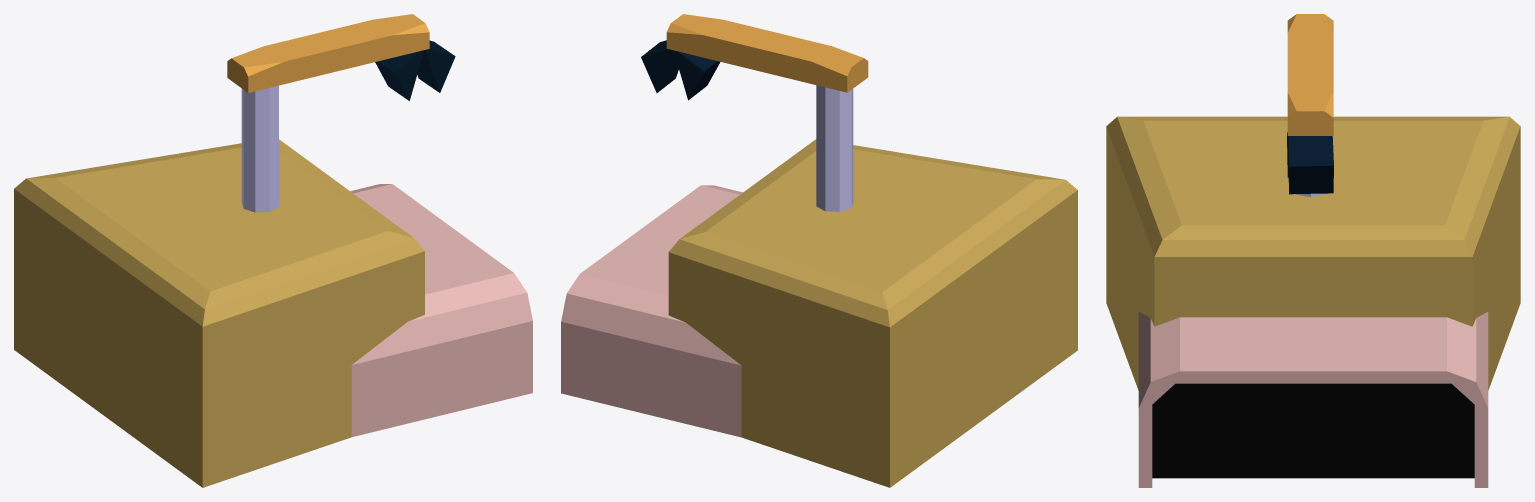
File: Producer.fbx
The picture shows the model from 3 angles, left to right: view 1: azimuth 30°, elevation 25°; view 2: azimuth 150°, elevation 25°; view 3: azimuth 270°, elevation 25°; orthographic projection. The views are drawn at different scales.
Visible parts, largest first — view 1: Make Collector, Cube.004, Construction Bar, Steel Column, Iron Crane Mouth; view 2: Make Collector, Cube.004, Construction Bar, Steel Column, Iron Crane Mouth; view 3: Make Collector, Cube.005, Cube.004, Construction Bar, Iron Crane Mouth.
Part boxes in pixels (bbox=[...]): Make Collector: bbox=[14, 139, 424, 487]; Cube.004: bbox=[350, 184, 532, 436]; Construction Bar: bbox=[227, 14, 429, 92]; Steel Column: bbox=[241, 85, 278, 212]; Iron Crane Mouth: bbox=[375, 40, 455, 100]; Make Collector: bbox=[668, 139, 1077, 487]; Cube.004: bbox=[561, 185, 742, 437]; Construction Bar: bbox=[666, 14, 868, 92]; Steel Column: bbox=[816, 85, 853, 211]; Iron Crane Mouth: bbox=[641, 40, 720, 100]; Make Collector: bbox=[1106, 116, 1520, 390]; Cube.005: bbox=[1152, 383, 1474, 478]; Cube.004: bbox=[1138, 312, 1488, 487]; Construction Bar: bbox=[1287, 14, 1333, 135]; Iron Crane Mouth: bbox=[1287, 132, 1333, 194].
Bounding box in the file's own units: 95 × 85.76 × 90.
